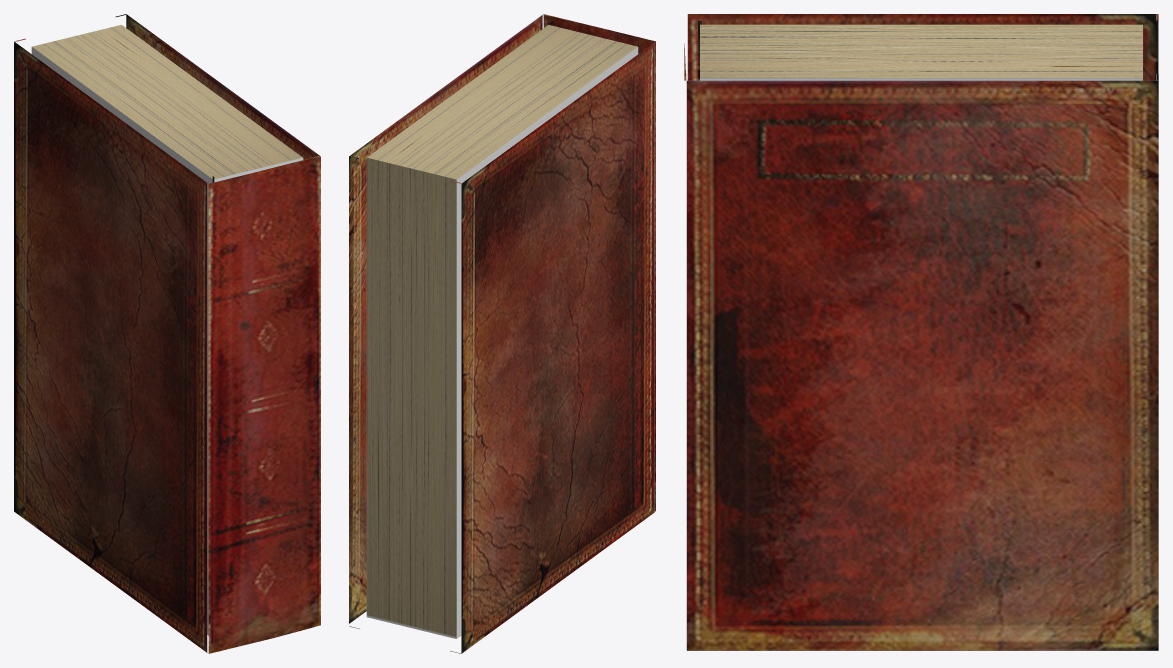
File: librorosso.fbx
3 renders of one model, left to right at view 1: azimuth 30°, elevation 25°; view 2: azimuth 150°, elevation 25°; view 3: azimuth 270°, elevation 25°, orthographic. The views are drawn at different scales.
Visible parts, largest first — view 1: copertinarossa; view 2: copertinarossa; view 3: copertinarossa.
Part boxes in pixels (x1,y1,x2,y2): copertinarossa: (14, 14, 320, 653); copertinarossa: (349, 14, 655, 653); copertinarossa: (684, 14, 1158, 650).
Bounding box in the file's own units: 5 × 20 × 15.
Materials: 2 (2 with a texture image).
